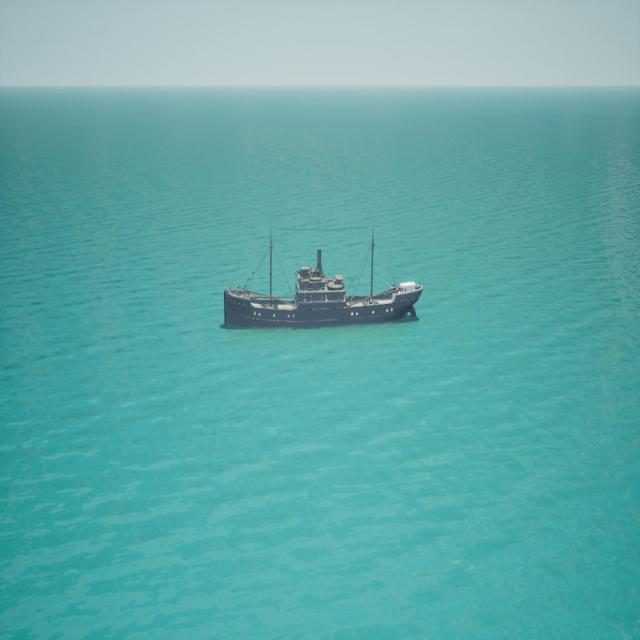fishing ship: (225, 231, 422, 330)
